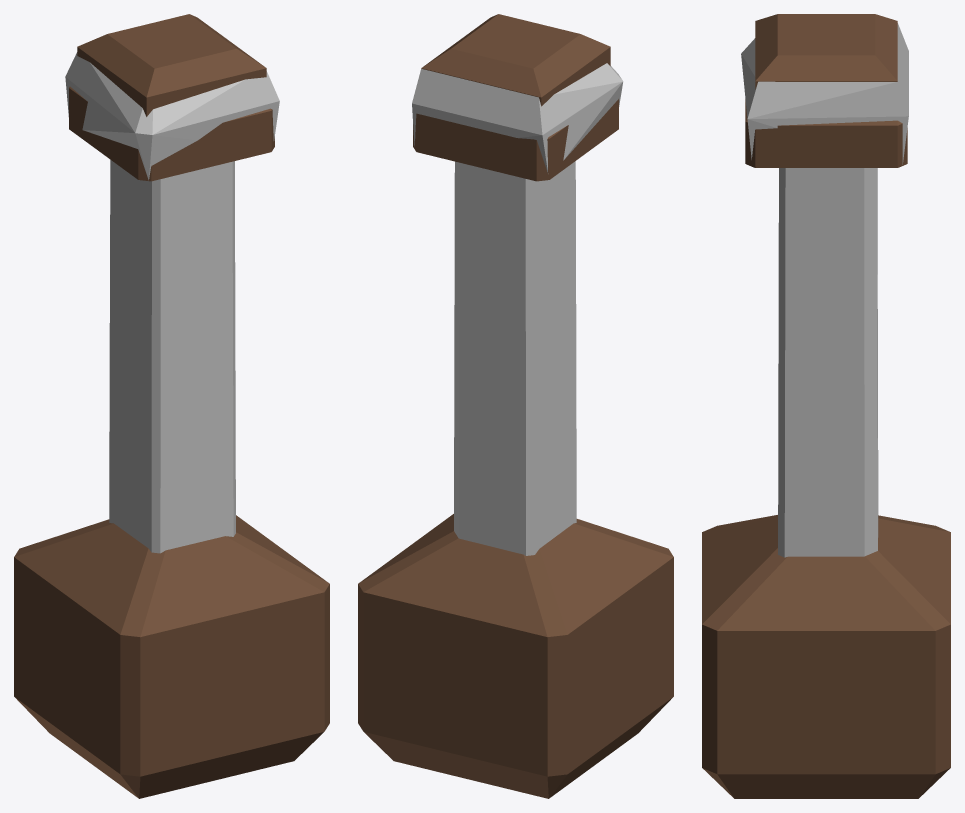
File: SM_Bld_Stairs_Railing_Pillar_01.fbx
The picture shows the model from 3 angles, left to right: view 1: azimuth 30°, elevation 25°; view 2: azimuth 150°, elevation 25°; view 3: azimuth 270°, elevation 25°; orthographic projection. The views are drawn at different scales.
Parts seen in each view (by area): view 1: SM_Bld_Stairs_Railing_Pillar_01, SM_Bld_Stairs_Railing_Pillar_01_ConvexHulls; view 2: SM_Bld_Stairs_Railing_Pillar_01, SM_Bld_Stairs_Railing_Pillar_01_ConvexHulls; view 3: SM_Bld_Stairs_Railing_Pillar_01, SM_Bld_Stairs_Railing_Pillar_01_ConvexHulls.
Part boxes in pixels (x1,y1,x2,y2): SM_Bld_Stairs_Railing_Pillar_01: (14, 14, 329, 798); SM_Bld_Stairs_Railing_Pillar_01_ConvexHulls: (65, 52, 279, 553); SM_Bld_Stairs_Railing_Pillar_01: (358, 14, 673, 798); SM_Bld_Stairs_Railing_Pillar_01_ConvexHulls: (412, 63, 623, 555); SM_Bld_Stairs_Railing_Pillar_01: (702, 14, 950, 798); SM_Bld_Stairs_Railing_Pillar_01_ConvexHulls: (741, 23, 908, 557).
Bounding box in the file's own units: 33.7 × 33.7 × 108.
2 materials, 1 textured.
